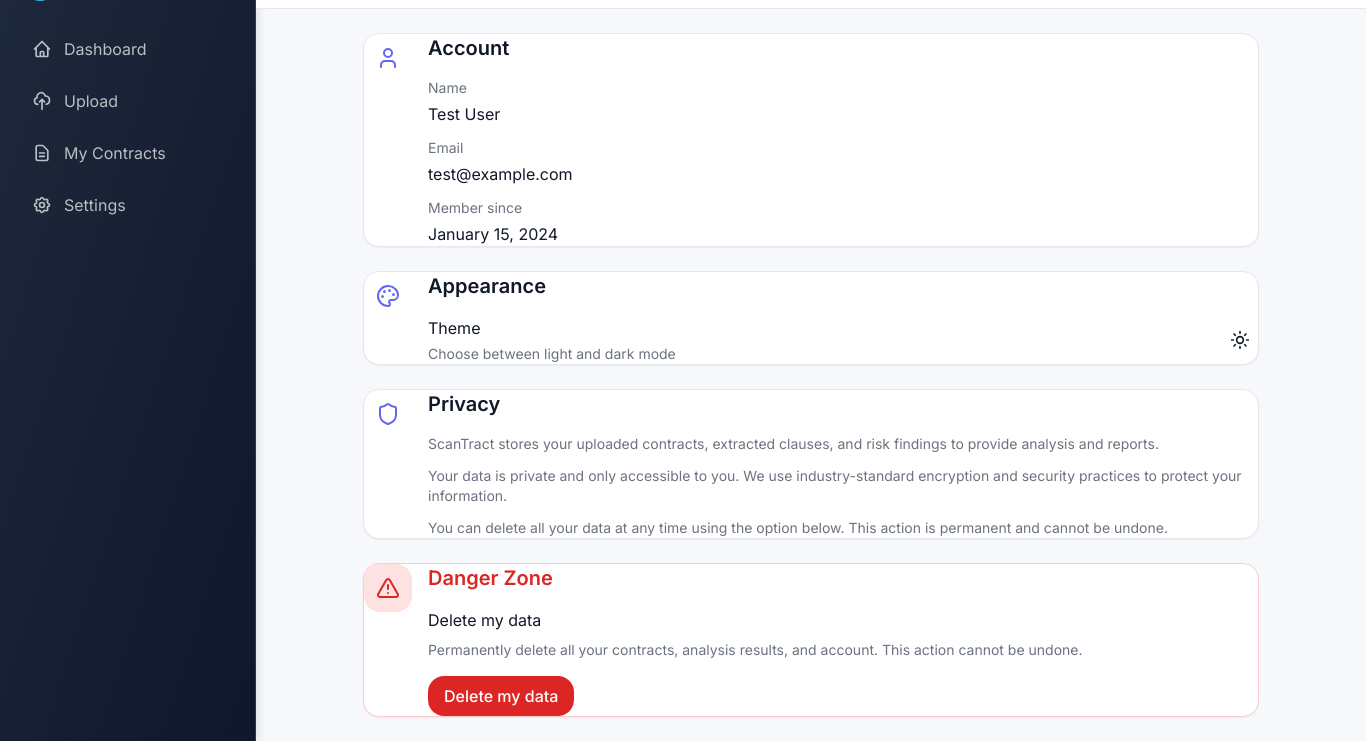
SettingsPage › shows API error when delete fails
This screenshot has width=1366, height=741.
(page scrolled)
# Open modal
Click the button "Delete my data": click(501, 696) [428,676,574,716]
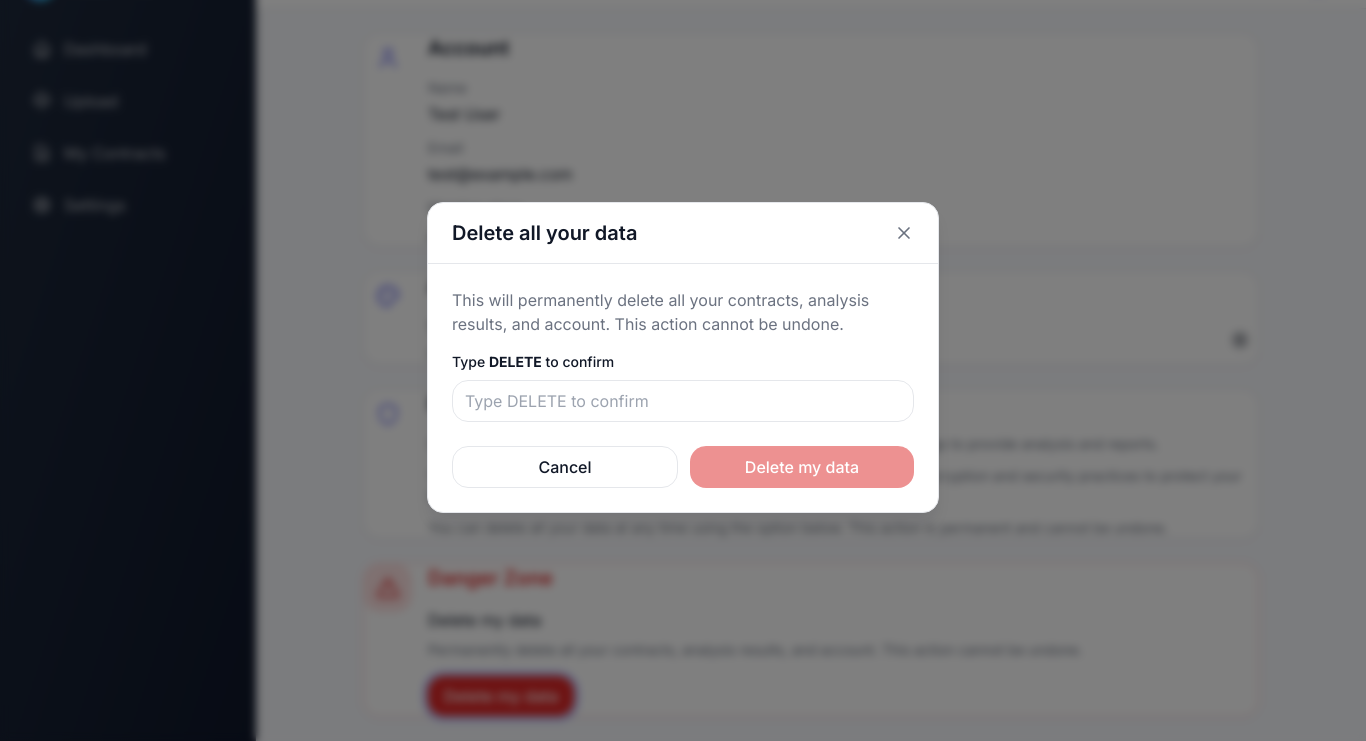
# Type DELETE
In the field with placeholder "Type DELETE to confirm": (683, 400) [452,380,914,422], type "DELETE"
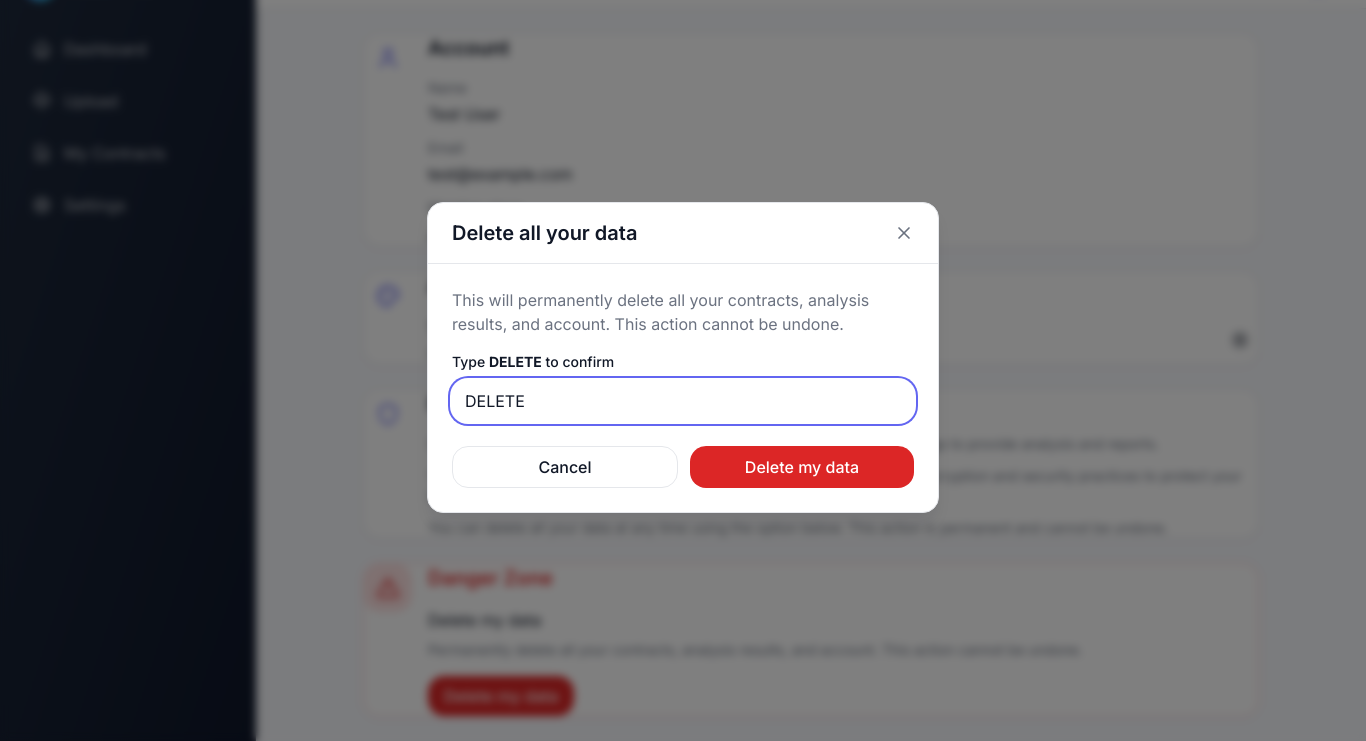
# Click confirm
Click the button "Delete my data": click(802, 466) [690,446,914,488]
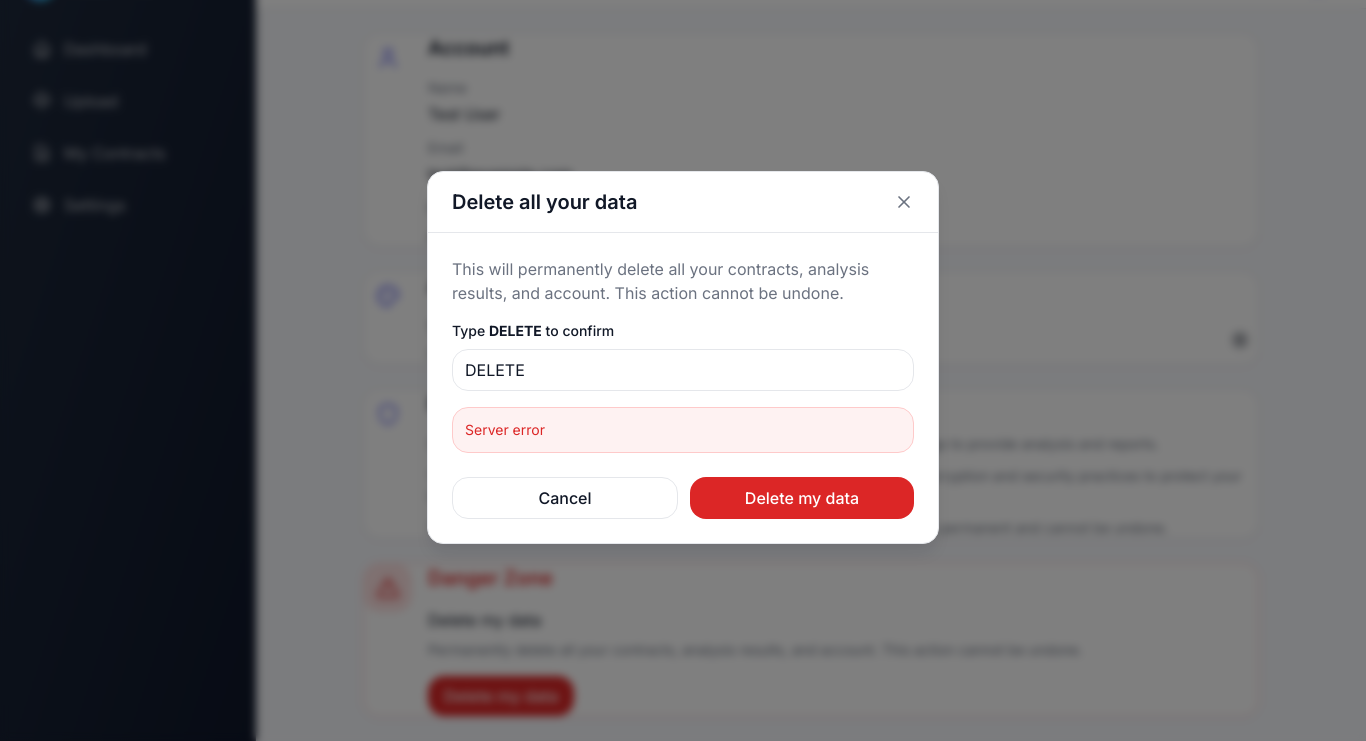
Check: the text "Server error" is shown, box [465,420,545,438]
